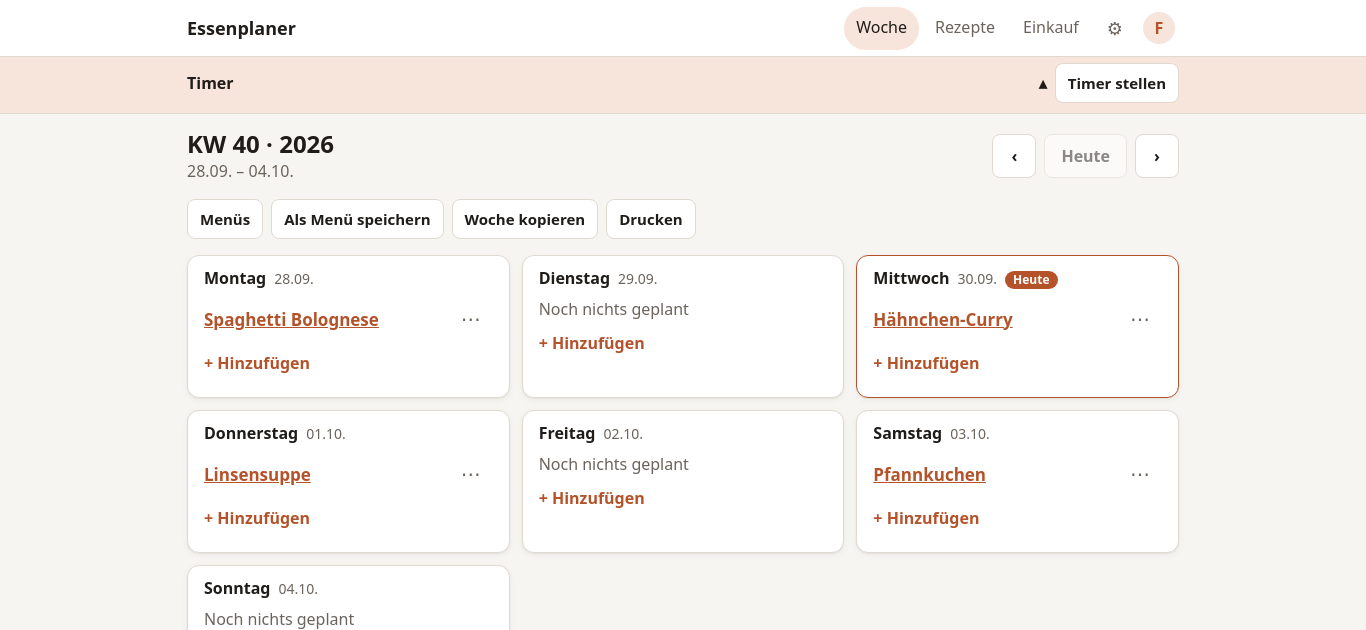
Test: Einstellungen › ist über die Navigation erreichbar und blendet Mahlzeiten im Plan ein
Click the link named "Einstellungen". click: (1115, 28)
box: left=1107, top=16, right=1123, bottom=40
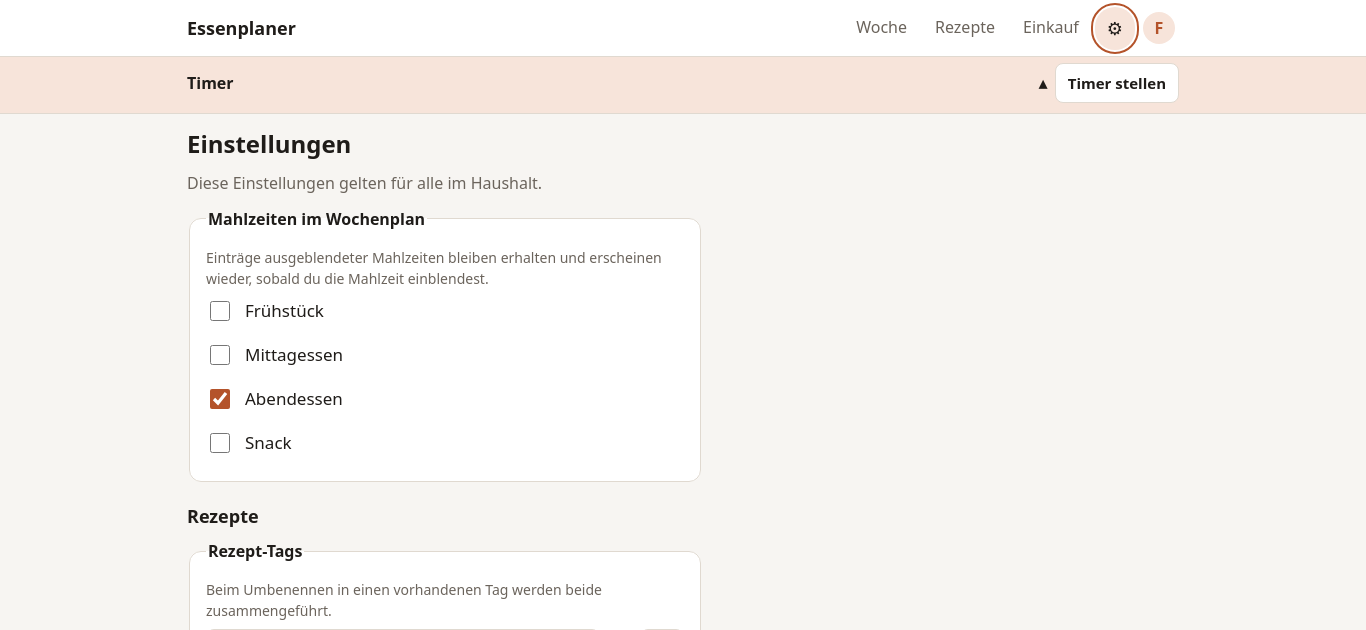
Result: the heading "Einstellungen" is shown at left=187, top=127, right=351, bottom=160
Result: the checkbox labelled "Abendessen" is checked at left=210, top=389, right=230, bottom=409
Click the checkbox labelled "Mittagessen". click: (220, 355)
box: left=210, top=345, right=230, bottom=365
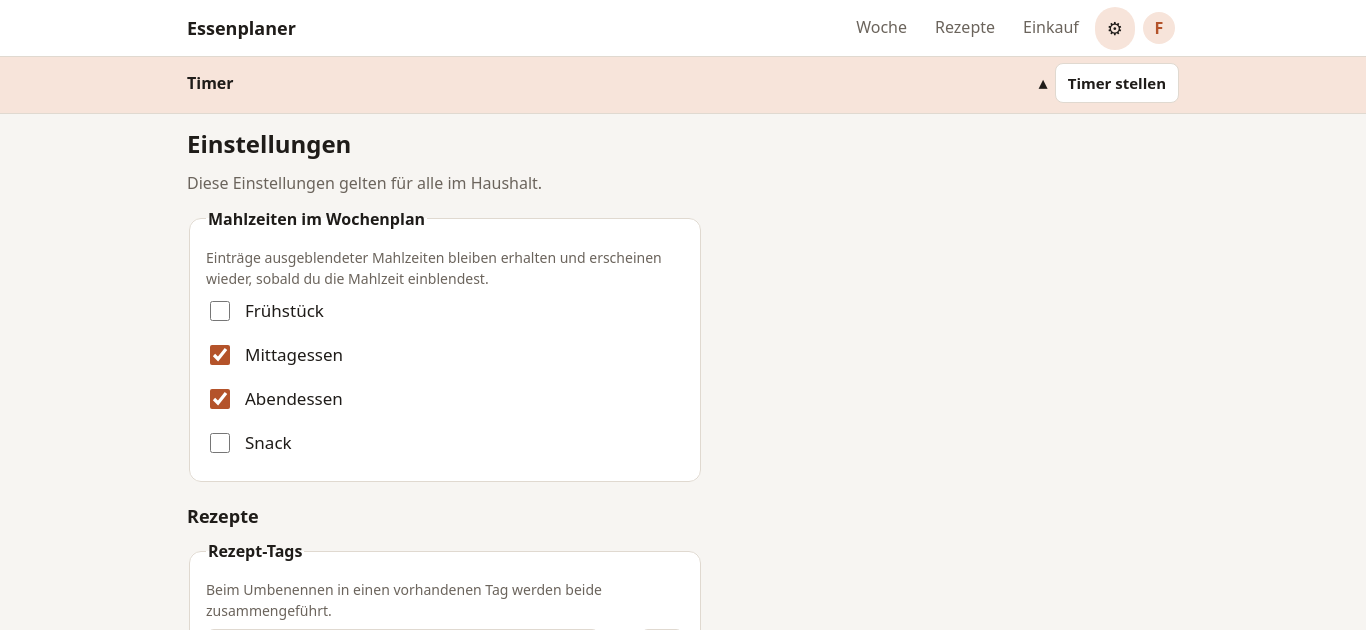
Result: the checkbox labelled "Mittagessen" is checked at left=210, top=345, right=230, bottom=365
Click the link "Woche". click: (882, 26)
box: left=856, top=16, right=907, bottom=38
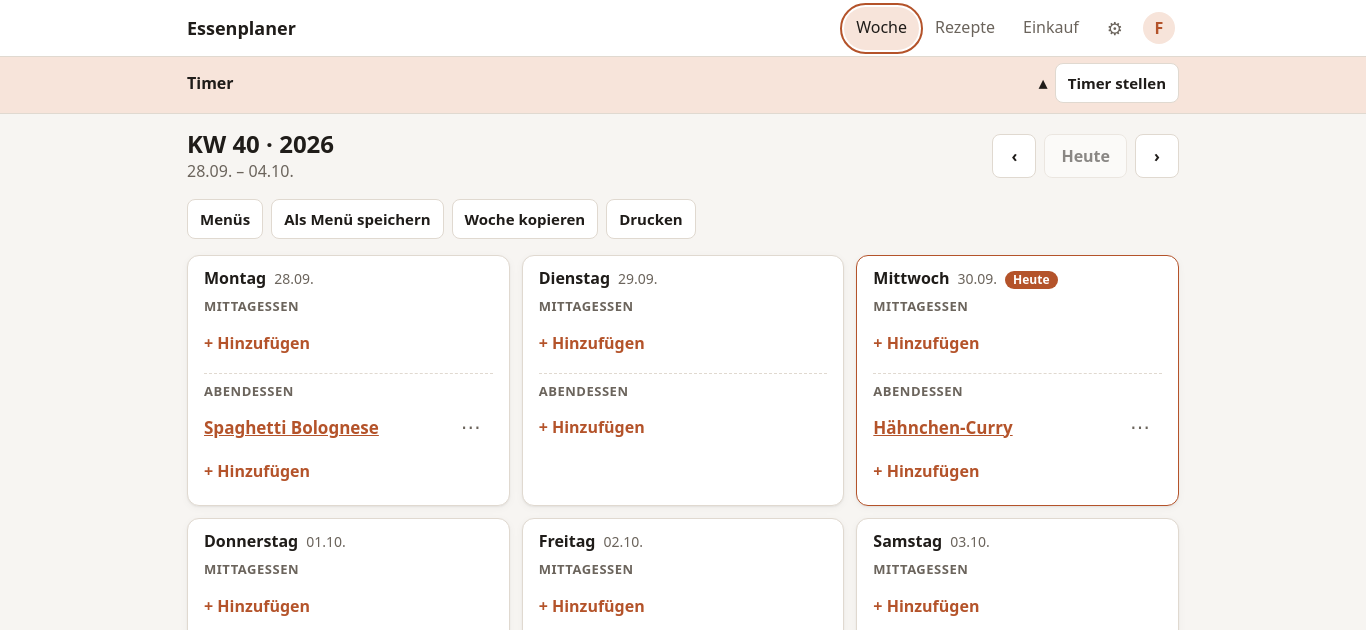
Result: the heading "Mittagessen" below "Montag" is shown at left=204, top=297, right=299, bottom=315
